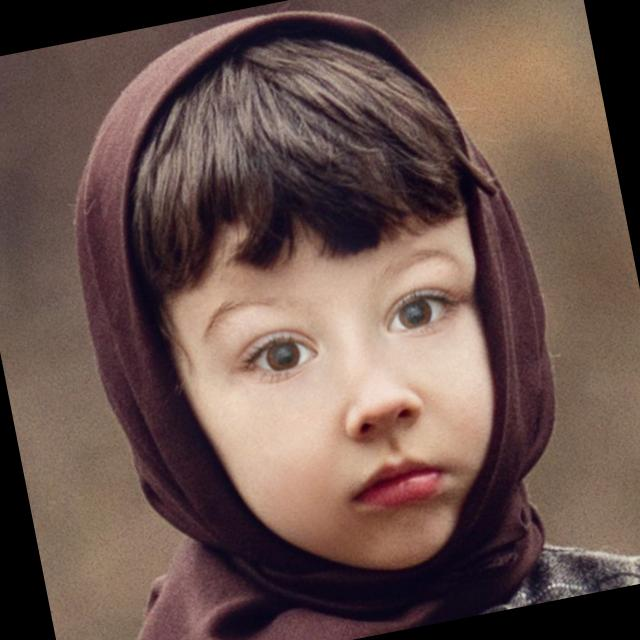face: (109, 109, 562, 622)
